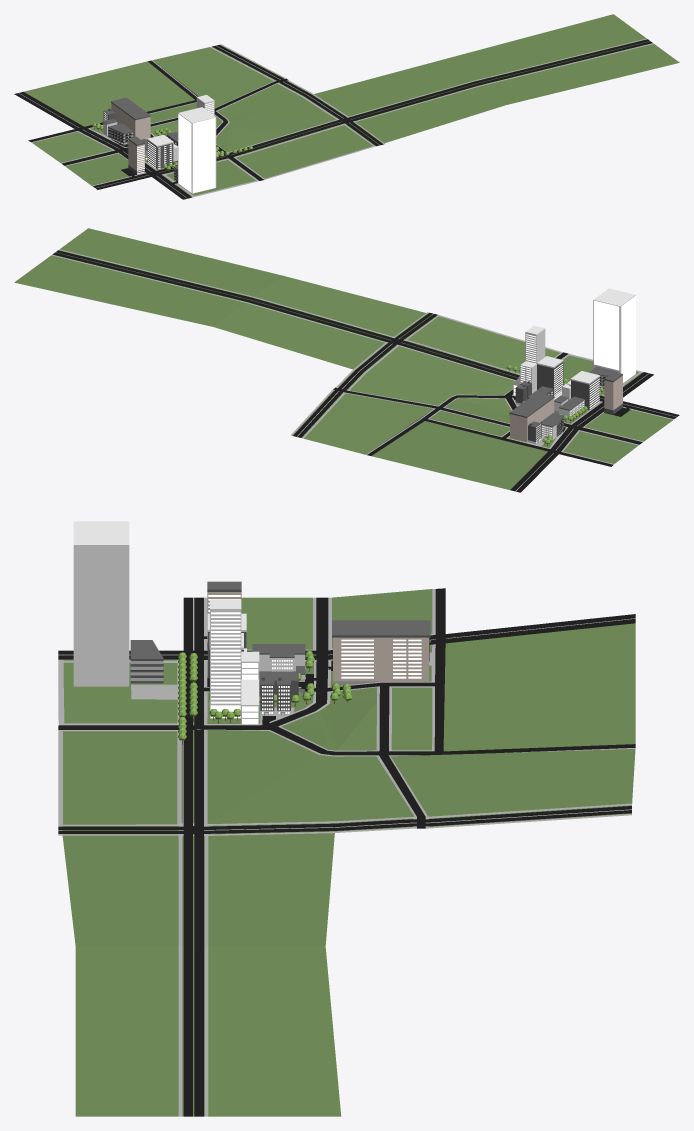
File: city_night.glb
3 renders of one model, top to bottom at view 1: azimuth 30°, elevation 25°; view 2: azimuth 150°, elevation 25°; view 3: azimuth 270°, elevation 25°, orthographic. The views are drawn at different scales.
Visible parts, largest first — view 1: road, building_9, building_4.001, building_4, building_3.001, building_8.001; view 2: road, building_9, building_4.001, building_7, building_3, building_4, building_3.001; view 3: road, building_9, building_4.001, building_7, building_8, building_1.001.
Boxes of the visible parts, <box> form: road: <box>14,14,679,199</box>; building_9: <box>178,107,216,193</box>; building_4.001: <box>111,97,150,139</box>; building_4: <box>147,134,173,169</box>; building_3.001: <box>128,136,144,174</box>; building_8.001: <box>108,123,133,145</box>; road: <box>14,228,679,492</box>; building_9: <box>593,288,635,383</box>; building_4.001: <box>509,392,554,441</box>; building_7: <box>513,325,545,395</box>; building_3: <box>537,356,563,399</box>; building_4: <box>570,371,600,409</box>; building_3.001: <box>604,372,622,414</box>; road: <box>58,588,635,1116</box>; building_9: <box>73,521,129,686</box>; building_4.001: <box>332,620,430,685</box>; building_7: <box>210,599,259,724</box>; building_8: <box>130,640,163,683</box>; building_1.001: <box>260,676,290,715</box>.
Bounding box in the file's own units: 1158 × 142 × 517.
